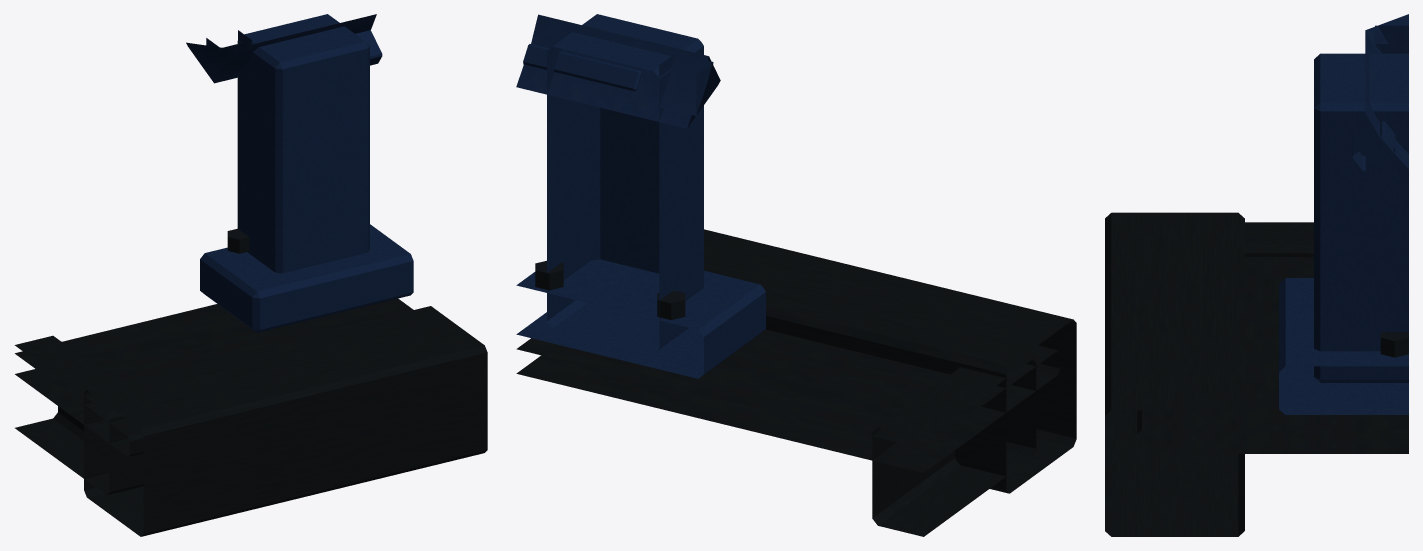
File: cell_15.obj
3 renders of one model, left to right at view 1: azimuth 30°, elevation 25°; view 2: azimuth 150°, elevation 25°; view 3: azimuth 270°, elevation 25°, orthographic. The views are drawn at different scales.
Visible parts, largest first — view 1: cell_15; view 2: cell_15; view 3: cell_15.
Part boxes in pixels (x1,y1,x2,y2): cell_15: [14, 14, 487, 536]; cell_15: [516, 14, 1076, 536]; cell_15: [1105, 14, 1408, 536].
Bounding box in the file's own units: 1 × 1 × 0.65.
